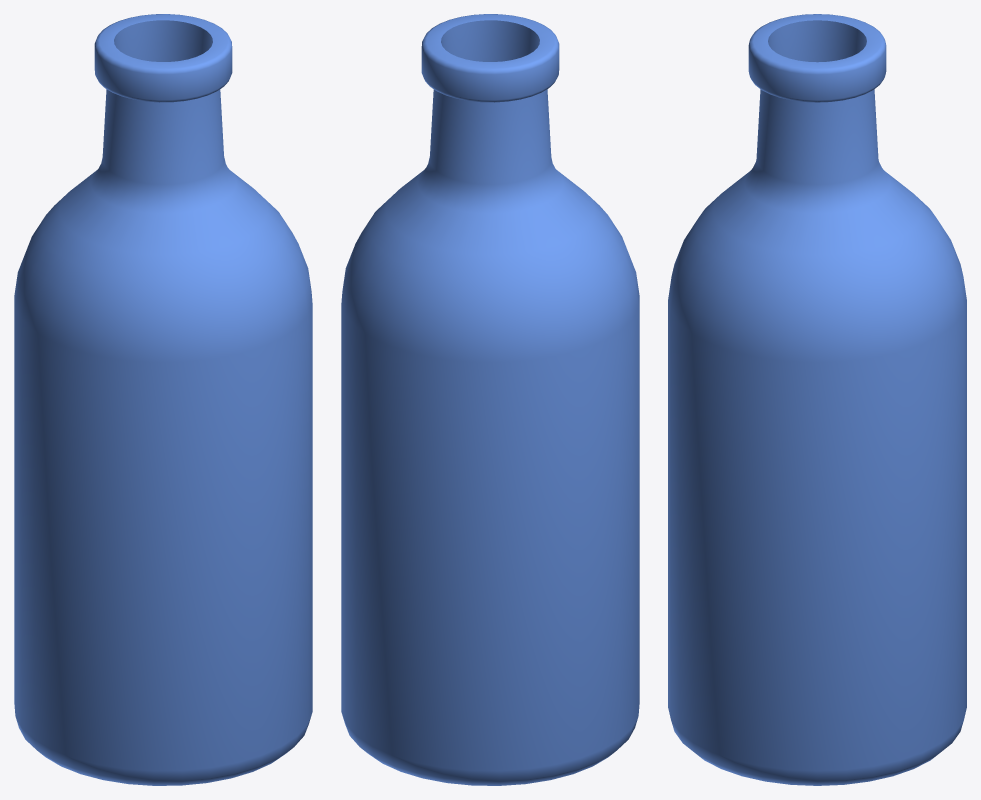
The model's file is Bottle.fbx.
The picture shows the model from 3 angles, left to right: view 1: azimuth 30°, elevation 25°; view 2: azimuth 150°, elevation 25°; view 3: azimuth 270°, elevation 25°; orthographic projection.
Visible parts, largest first — view 1: Bottle; view 2: Bottle; view 3: Bottle.
Boxes of the visible parts, x1,y1,x2,y2 form: Bottle: [14, 14, 312, 785]; Bottle: [341, 14, 639, 785]; Bottle: [668, 14, 966, 785].
Size of the model in its own units: 1.18 by 3 by 1.18.
